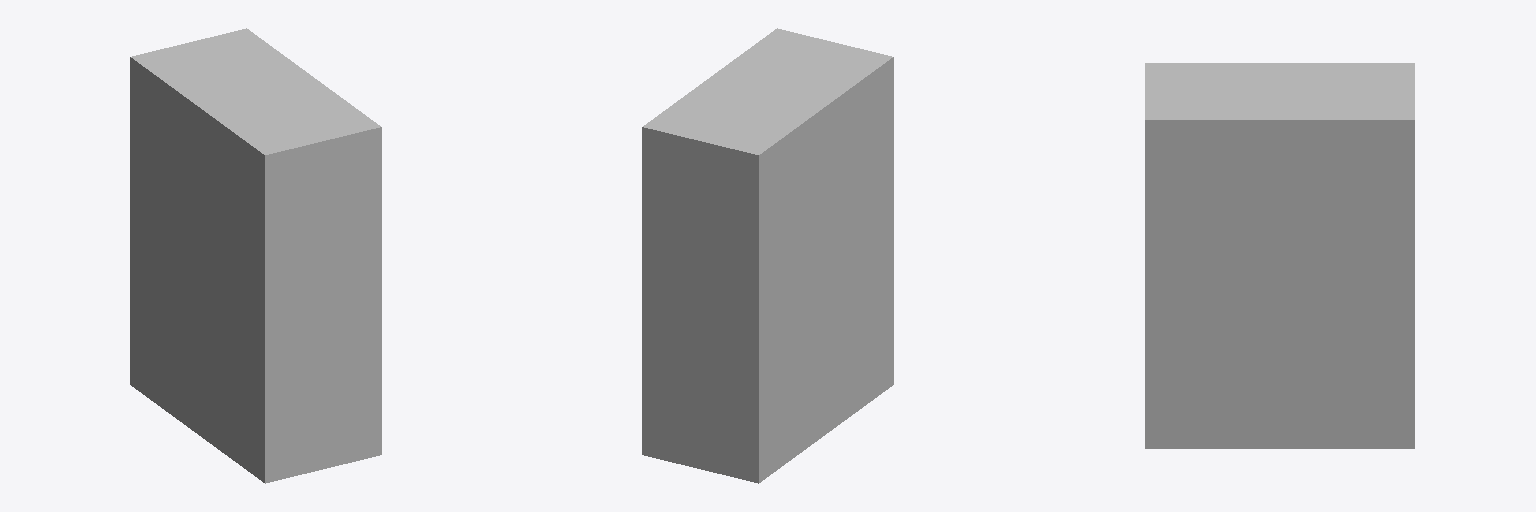
File: case_6.obj
3 renders of one model, left to right at view 1: azimuth 30°, elevation 25°; view 2: azimuth 150°, elevation 25°; view 3: azimuth 270°, elevation 25°, orthographic.
Visible parts, largest first — view 1: Untitled; view 2: Untitled; view 3: Untitled.
Part boxes in pixels (left/top/right/bottom): Untitled: left=130, top=28, right=381, bottom=483; Untitled: left=642, top=28, right=893, bottom=483; Untitled: left=1145, top=63, right=1414, bottom=448.
Bounding box in the file's own units: 3.2 × 8.6 × 6.4.